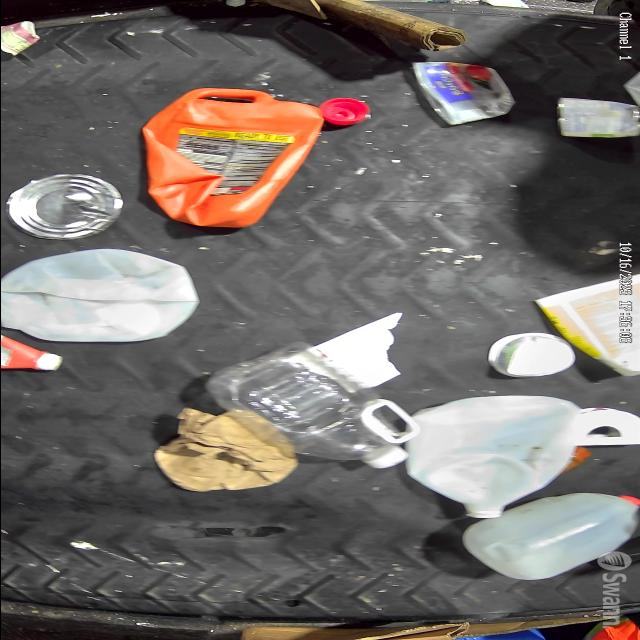milk_jug: (412, 392, 578, 520), (0, 247, 198, 341), (472, 492, 636, 582)
non_white_jug: (147, 97, 325, 222)
plastic_bottle: (220, 349, 400, 471)
